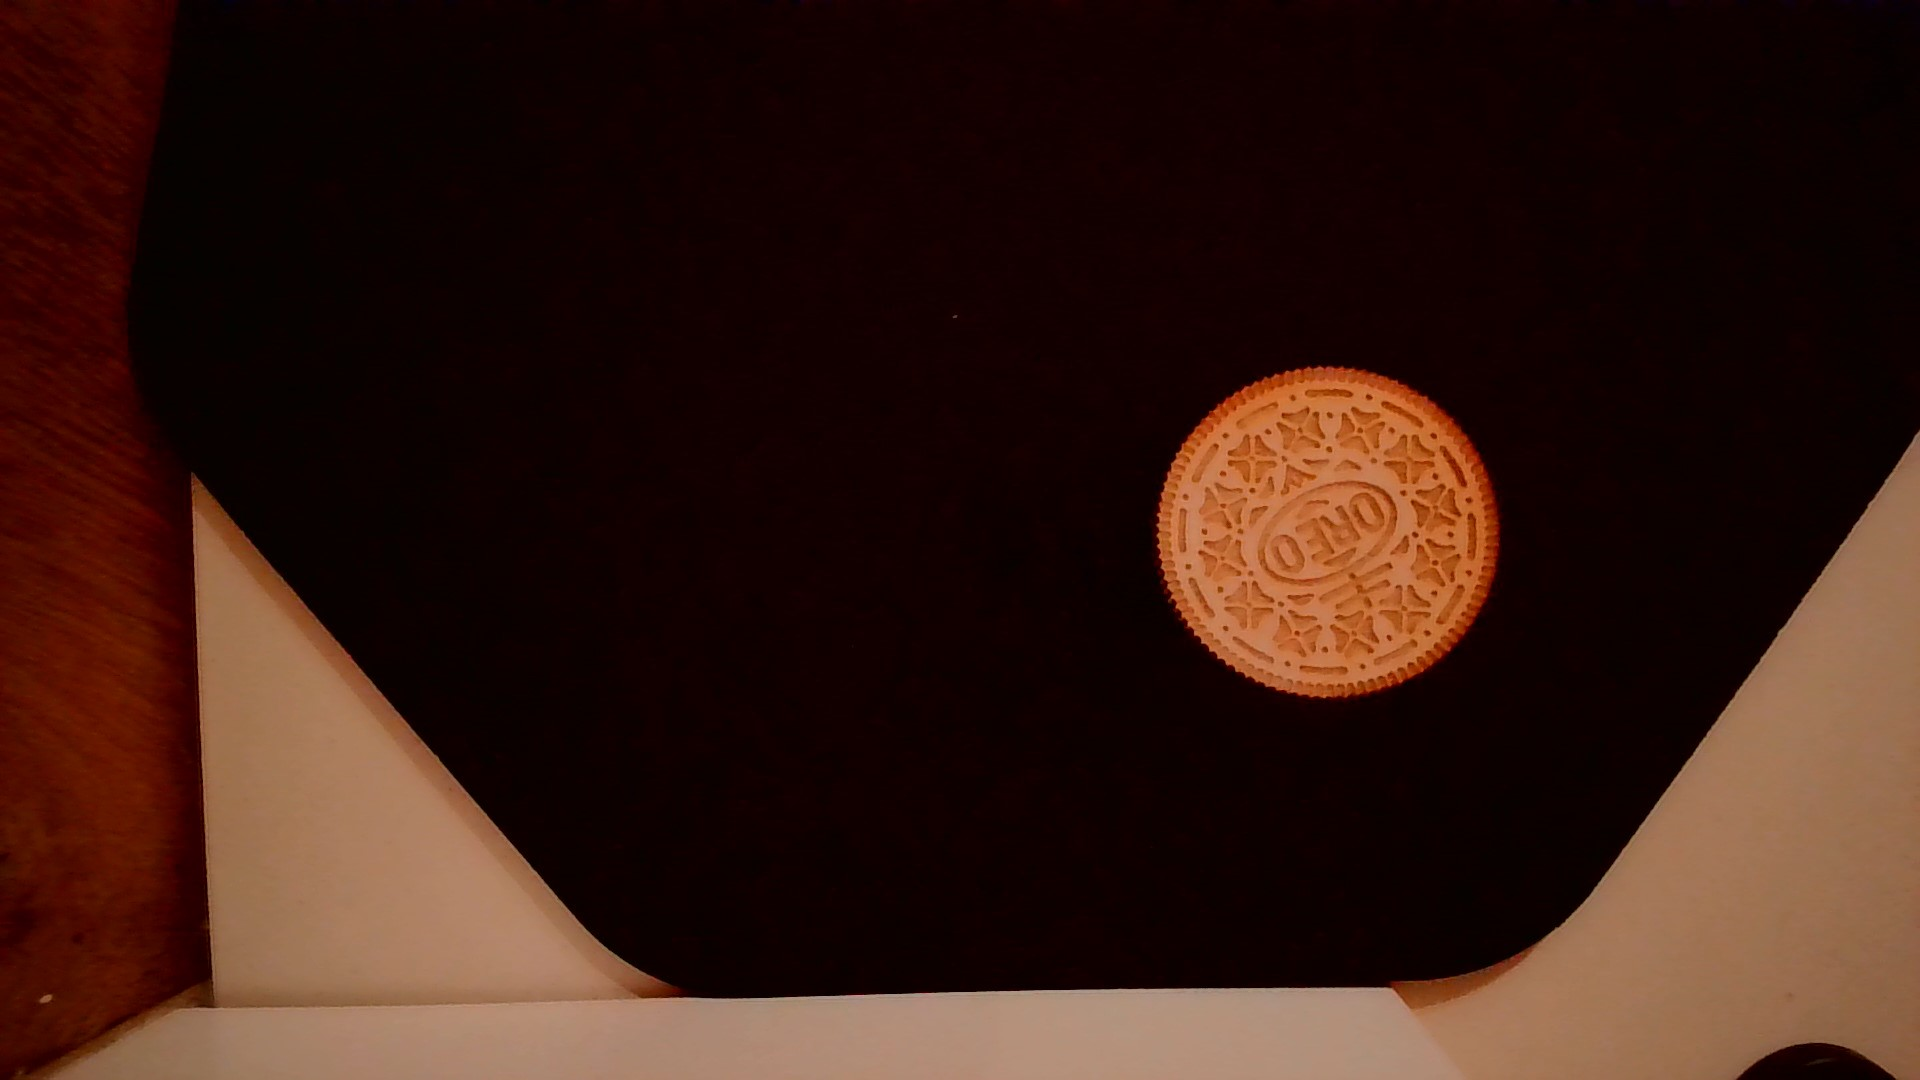Oréo: (1141, 360, 1509, 717)
